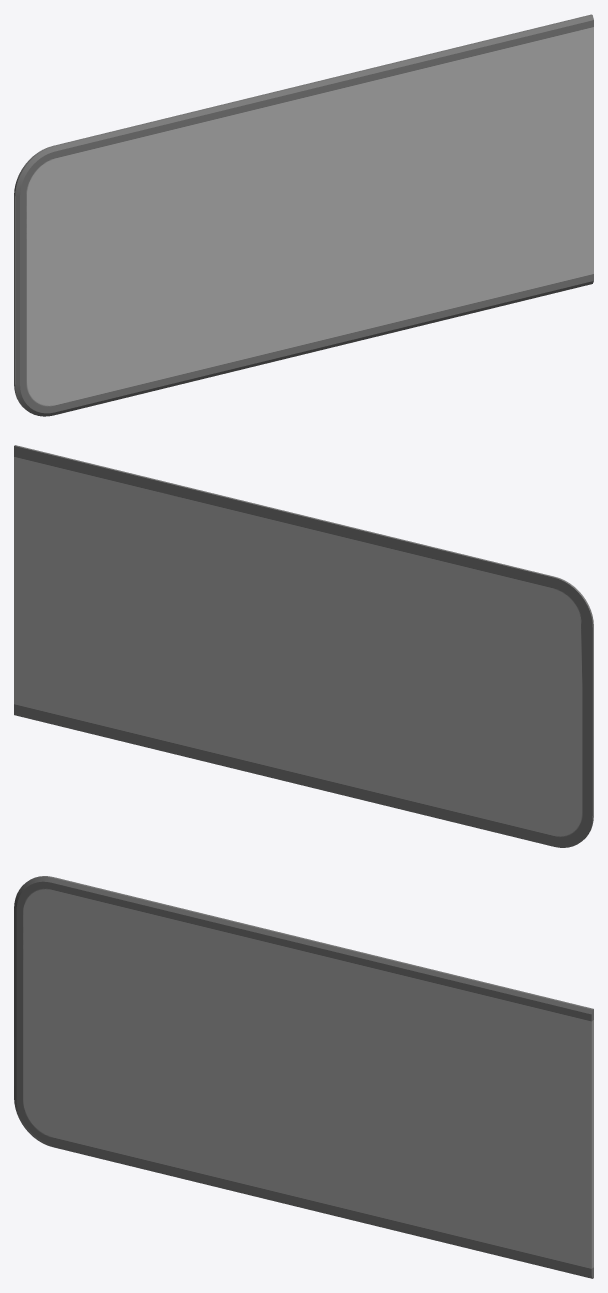
Rendered from mesh_SB_left_endcap.fbx.
The picture shows the model from 3 angles, top to bottom: view 1: azimuth 30°, elevation 25°; view 2: azimuth 150°, elevation 25°; view 3: azimuth 330°, elevation 25°; orthographic projection.
Parts seen in each view (by area): view 1: mesh_SB_left_endcap; view 2: mesh_SB_left_endcap; view 3: mesh_SB_left_endcap.
Boxes of the visible parts, bbox=[...] form: mesh_SB_left_endcap: bbox=[14, 14, 593, 416]; mesh_SB_left_endcap: bbox=[14, 445, 593, 847]; mesh_SB_left_endcap: bbox=[14, 876, 593, 1278].
Bounding box in the file's own units: 900 × 400 × 6.27.
